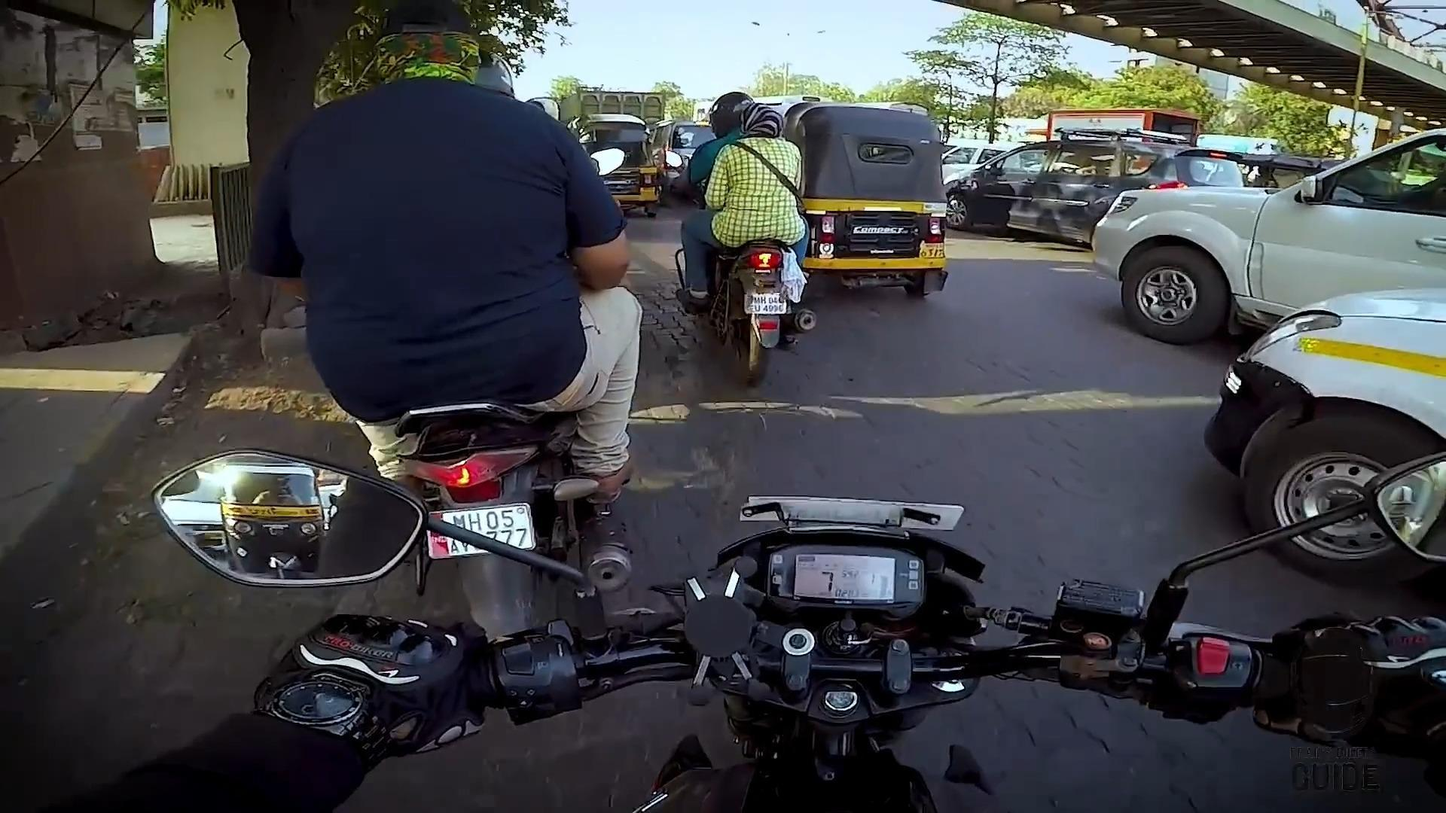Helmet: (703, 85, 758, 145)
bike: (365, 139, 637, 637), (663, 149, 818, 384)
no-helmet: (355, 0, 509, 97), (731, 97, 792, 145)
number-plate: (426, 503, 535, 556), (743, 293, 791, 313)
rider: (243, 0, 648, 505), (677, 94, 812, 304)
